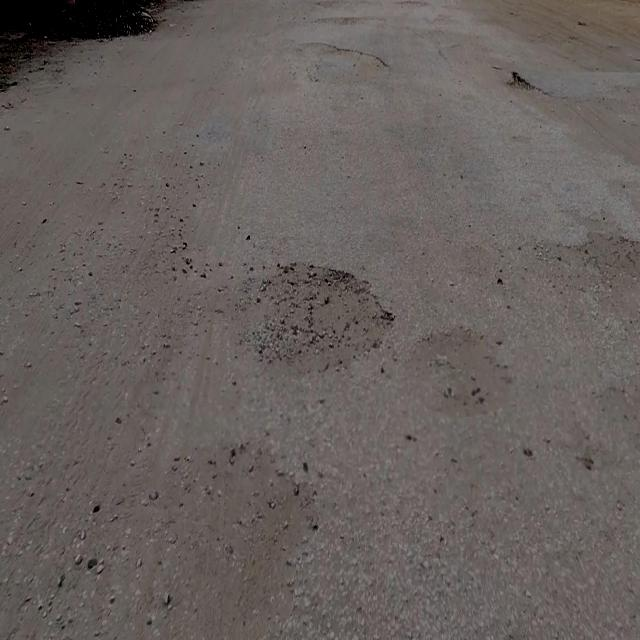Potholes: (233, 258, 395, 376), (405, 325, 519, 426)
